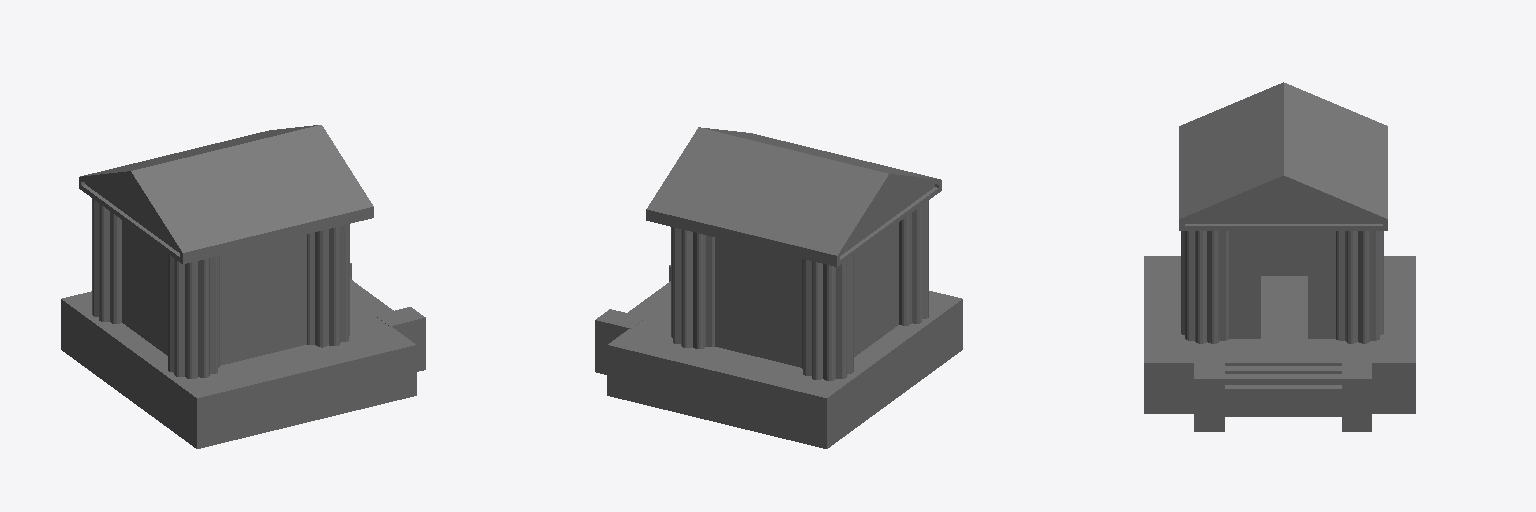
File: tomb.obj
The picture shows the model from 3 angles: view 1: azimuth 30°, elevation 25°; view 2: azimuth 150°, elevation 25°; view 3: azimuth 270°, elevation 25°; orthographic projection.
Parts seen in each view (by area): view 1: tomb; view 2: tomb; view 3: tomb.
Part boxes in pixels (x1,y1,x2,y2): tomb: (61,125,425,448); tomb: (595,127,962,448); tomb: (1144,82,1415,431).
Bounding box in the file's own units: 32.14 × 27.47 × 29.84.